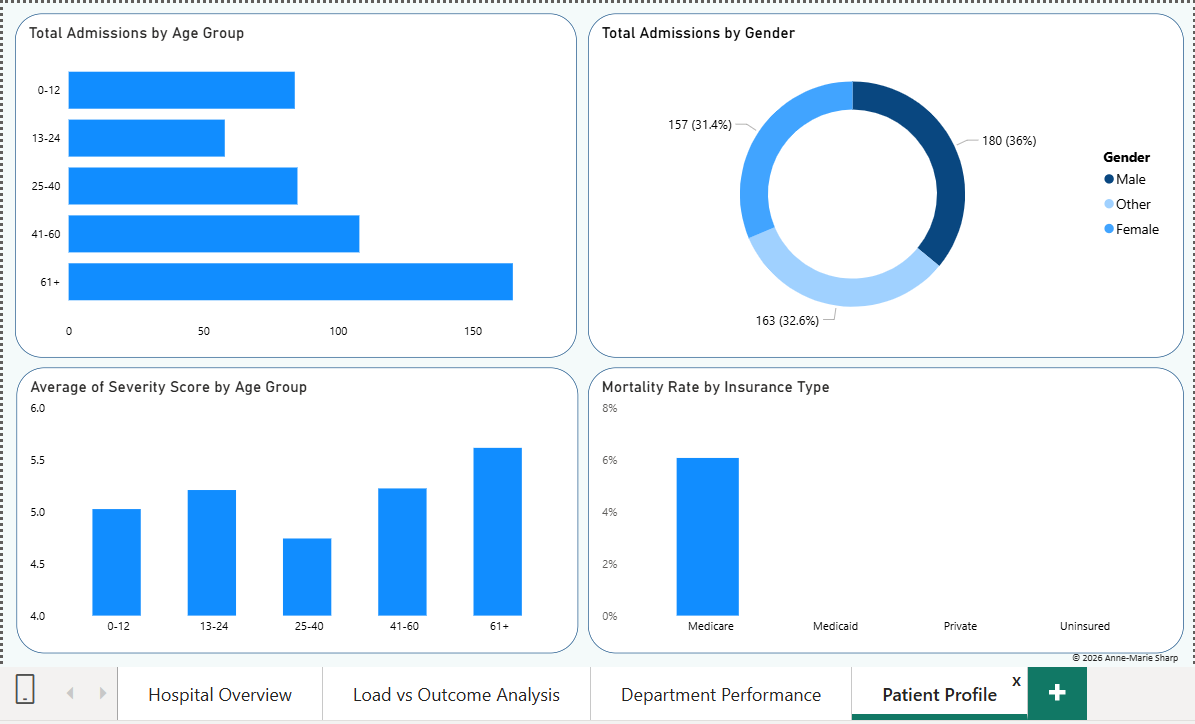

This screenshot's page, from the dashboard's own definition file:
{"tool":"powerbi","page":{"name":"Patient Profile","canvas":[1280,720],"ordinal":3},"visuals":[{"type":"donutChart","title":"Total Admissions by Gender","fields":{"Category":["public hospital_admissions.gender"],"Y":["public hospital_admissions.Total Admissions"]},"box":[628.8,11.6,640.4,369.7],"z":0},{"type":"clusteredBarChart","title":"Total Admissions by Age Group","fields":{"Category":["public hospital_admissions.age_group"],"Y":["public hospital_admissions.Total Admissions"]},"box":[13.1,11.6,604.1,369.7],"z":1000},{"type":"columnChart","title":"Mortality Rate by Insurance Type","fields":{"Category":["public hospital_admissions.insurance_type"],"Y":["public hospital_admissions.Mortality Rate"]},"box":[628.8,391.5,640.4,307.1],"z":2000},{"type":"clusteredColumnChart","title":"Average of Severity Score by Age Group","fields":{"Category":["public hospital_admissions.age_group"],"Y":["Avg(public hospital_admissions.severity_score)"]},"box":[14.6,391.5,604.1,307.1],"z":3000},{"type":"textbox","box":[1129.5,687,139.7,33.5],"z":4000}]}

Visuals, with their boxes on the page's 1280x720 design canvas (x1, y1, x2, y2). These are canvas units, not pixel positions in the 1195x724 screenshot, which may show the page scaled, cropped or inside an application window:
"Total Admissions by Gender" donutChart: 629,12,1269,381
"Total Admissions by Age Group" clusteredBarChart: 13,12,617,381
"Mortality Rate by Insurance Type" columnChart: 629,392,1269,699
"Average of Severity Score by Age Group" clusteredColumnChart: 15,392,619,699
textbox: 1130,687,1269,720
